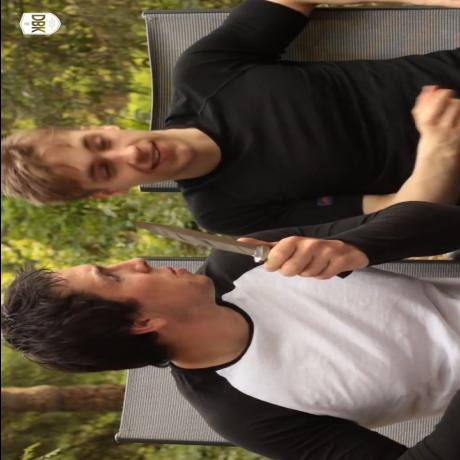1: (0, 201, 459, 460), (0, 0, 460, 238)
weapon: (134, 222, 276, 262)
